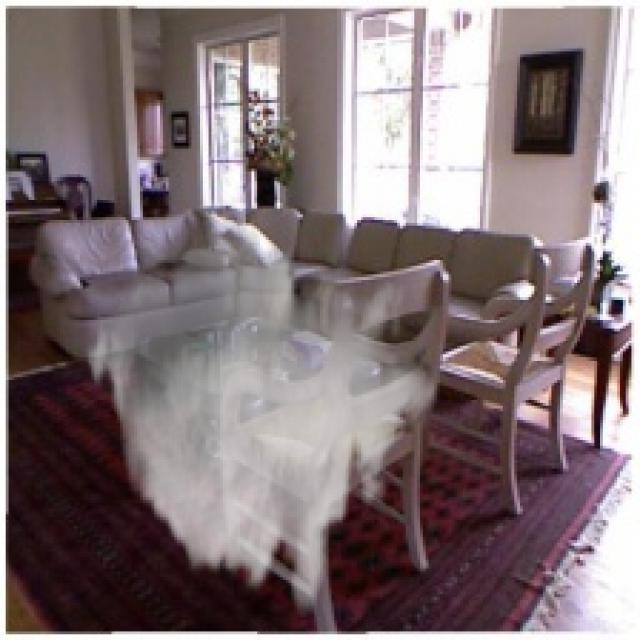smoke: (83, 200, 440, 617)
